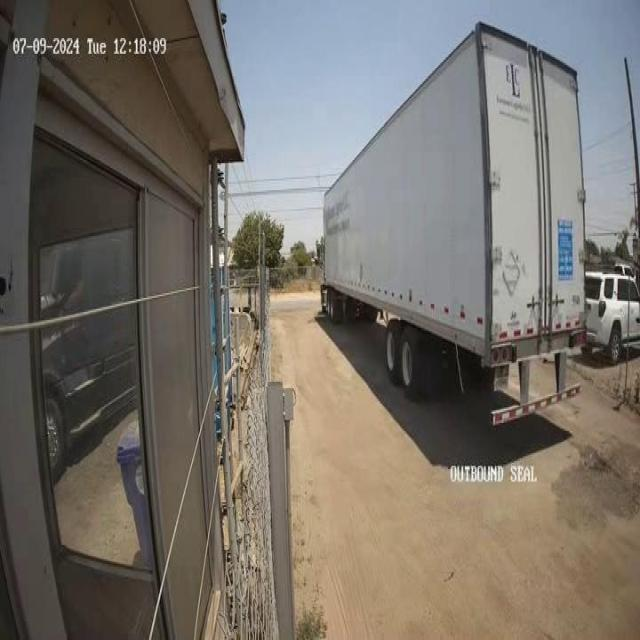TRUCK_OUT: (320, 19, 588, 393)
